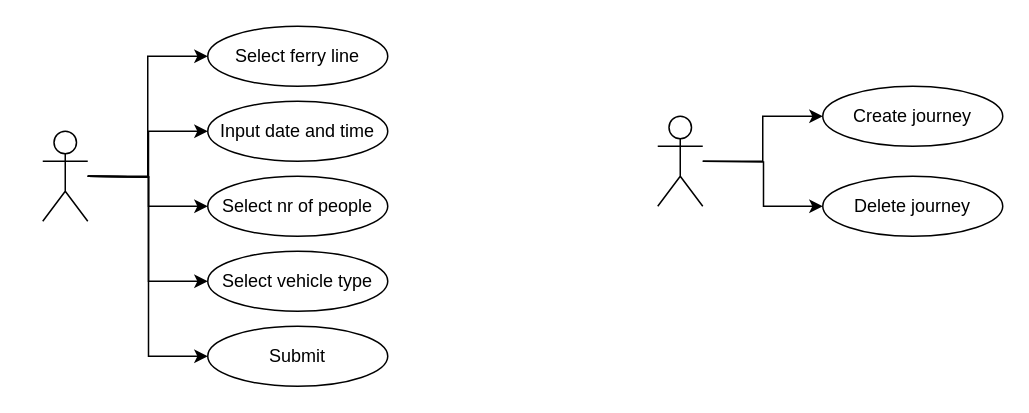
The diagram is 1029 pixels wide and 413 high, and some of its shapes have lost their labels. The shapes that lost their labels are listed below. From the top down, each one's centre as x and y in pixels, then its label:
(64,175): Customer
(679,160): Administrator
